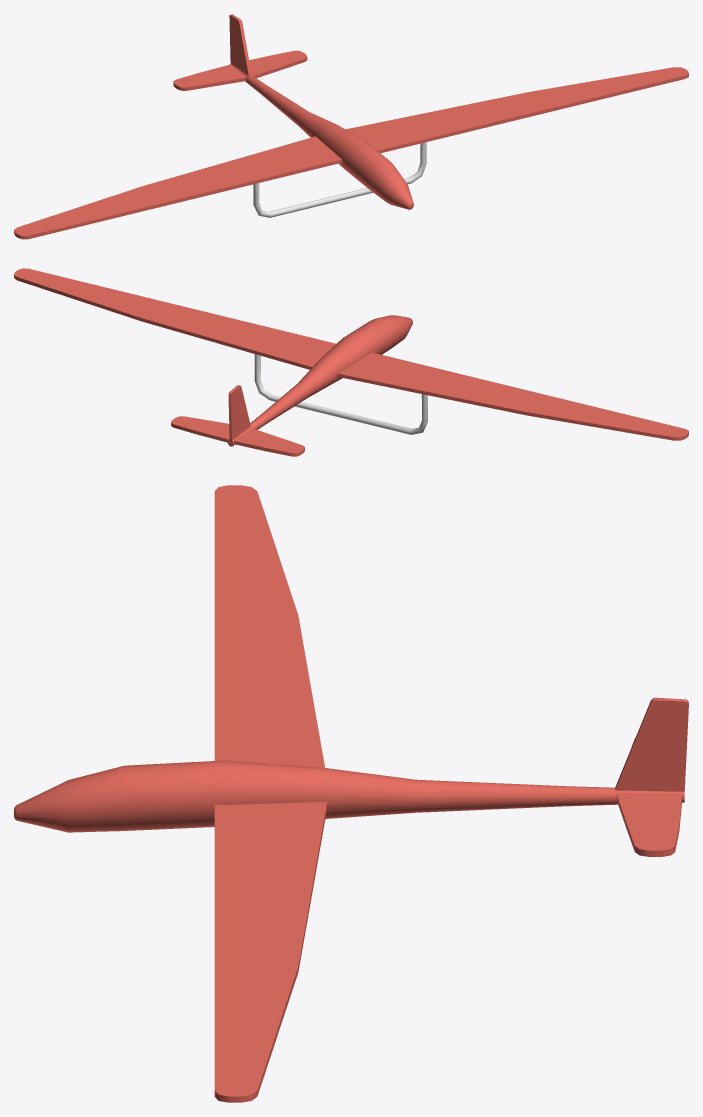
The model's file is E glider.fbx.
3 views of the same model, one above another, from view 1: azimuth 30°, elevation 25°; view 2: azimuth 150°, elevation 25°; view 3: azimuth 270°, elevation 25° (orthographic). The views are drawn at different scales.
Visible parts, largest first — view 1: Cube.207; view 2: Cube.207; view 3: Cube.207.
Boxes of the visible parts, box(x1,y1,x2,y2) form: Cube.207: box(14, 14, 688, 239); Cube.207: box(14, 268, 688, 456); Cube.207: box(14, 485, 688, 1102).
Size of the model in its own units: 1224 by 186 by 571.
